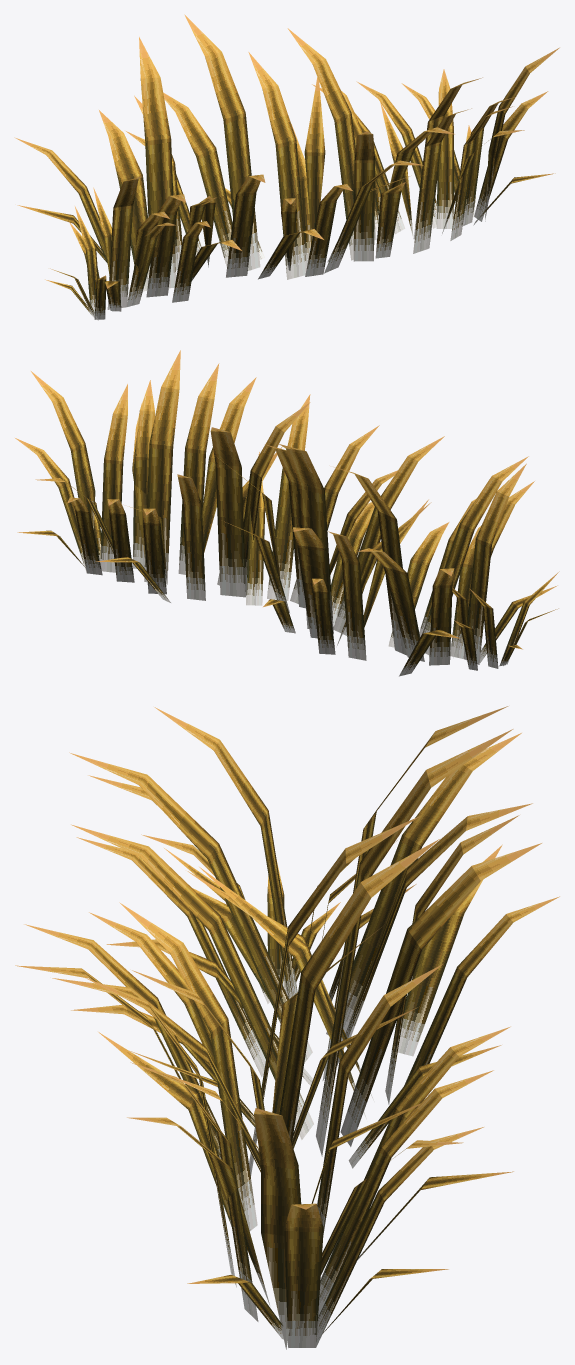
The model's file is Snow Grass.obj.
3 views of the same model, one above another, from view 1: azimuth 30°, elevation 25°; view 2: azimuth 150°, elevation 25°; view 3: azimuth 270°, elevation 25° (orthographic). The views are drawn at different scales.
Visible parts, largest first — view 1: MODELS_bin_015:poly000; view 2: MODELS_bin_015:poly000; view 3: MODELS_bin_015:poly000.
Part boxes in pixels (left/top/right/bottom): MODELS_bin_015:poly000: left=14, top=14, right=559, bottom=320; MODELS_bin_015:poly000: left=15, top=350, right=559, bottom=676; MODELS_bin_015:poly000: left=15, top=706, right=559, bottom=1349.
Bounding box in the file's own units: 4.76 × 1.96 × 2.39.
1 material, 1 textured.
